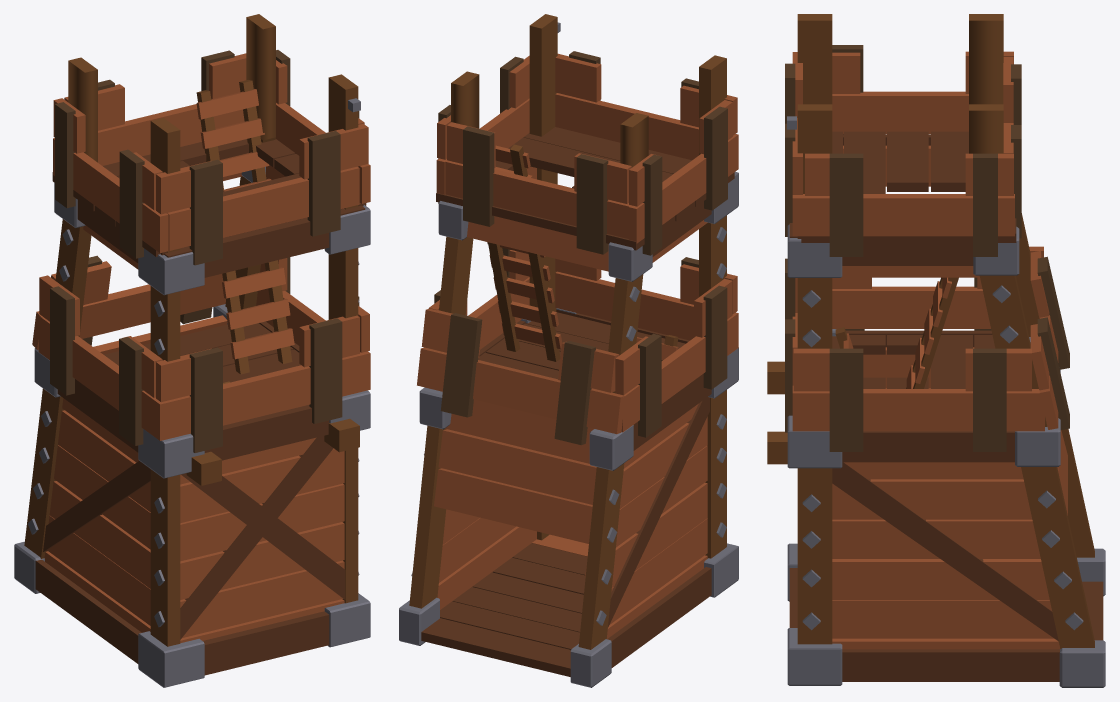
Rendered from ExplodedGaurdTower.fbx.
3 views of the same model, side by side, from view 1: azimuth 30°, elevation 25°; view 2: azimuth 150°, elevation 25°; view 3: azimuth 270°, elevation 25° (orthographic). The views are drawn at different scales.
Parts seen in each view (by area): view 1: GuardTower.028, GuardTower.030, GuardTower.138, GuardTower.029, GuardTower.056, GuardTower.034, GuardTower.036, GuardTower.024, GuardTower.026, GuardTower.025, GuardTower.035, GuardTower.023 (+63 smaller); view 2: GuardTower.030, GuardTower.031, GuardTower.120, GuardTower.119, GuardTower.153, GuardTower.028, GuardTower.163, GuardTower.056, GuardTower.138, GuardTower.121, GuardTower.101, GuardTower.029 (+67 smaller); view 3: GuardTower.017, GuardTower.031, GuardTower.029, GuardTower.143, GuardTower.048, GuardTower.049, GuardTower.021, GuardTower.158, GuardTower.050, GuardTower.051, GuardTower.030, GuardTower.148 (+47 smaller).
Boxes of the visible parts, x1,y1,x2,y2 form: GuardTower.028: (150, 118, 180, 646); GuardTower.030: (24, 57, 97, 558); GuardTower.138: (155, 353, 370, 440); GuardTower.029: (328, 74, 358, 603); GuardTower.056: (167, 166, 359, 250); GuardTower.034: (180, 560, 344, 637); GuardTower.036: (180, 483, 344, 561); GuardTower.024: (203, 611, 329, 675); GuardTower.026: (180, 436, 333, 639); GuardTower.025: (181, 473, 345, 599); GuardTower.035: (180, 522, 344, 599); GuardTower.023: (164, 205, 365, 277); GuardTower.030: (578, 113, 648, 649); GuardTower.031: (409, 71, 479, 608); GuardTower.120: (438, 429, 596, 504); GuardTower.119: (434, 468, 592, 543); GuardTower.153: (417, 347, 624, 434); GuardTower.028: (699, 55, 726, 558); GuardTower.163: (437, 158, 641, 238); GuardTower.056: (555, 93, 698, 160); GuardTower.138: (555, 271, 737, 340); GuardTower.121: (445, 399, 593, 463); GuardTower.101: (421, 618, 570, 676); GuardTower.029: (529, 14, 557, 540); GuardTower.017: (832, 431, 1058, 641); GuardTower.031: (969, 104, 1094, 648); GuardTower.029: (797, 104, 832, 644); GuardTower.143: (792, 389, 1044, 431); GuardTower.048: (832, 600, 1053, 638); GuardTower.049: (832, 559, 1049, 599); GuardTower.021: (842, 649, 1059, 681); GuardTower.158: (792, 194, 1014, 236); GuardTower.050: (832, 519, 1040, 558); GuardTower.051: (832, 479, 1032, 519); GuardTower.030: (969, 14, 1094, 557); GuardTower.148: (832, 286, 990, 328).
Bounding box in the file's own units: 1910 × 4519 × 2412.
